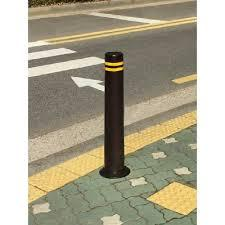Animal: (91, 51, 142, 178)
